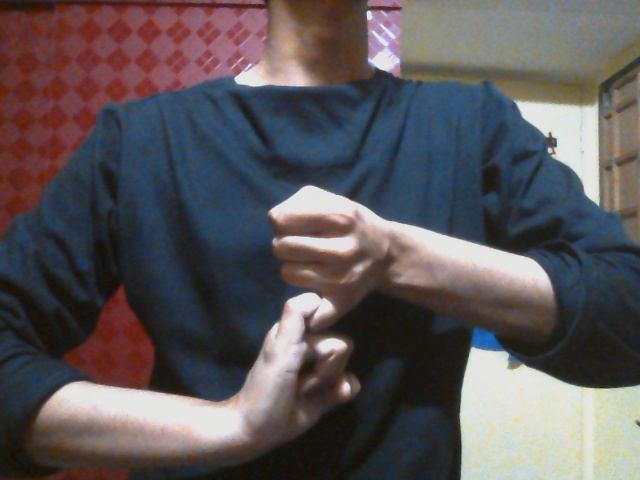S: (242, 183, 419, 445)
